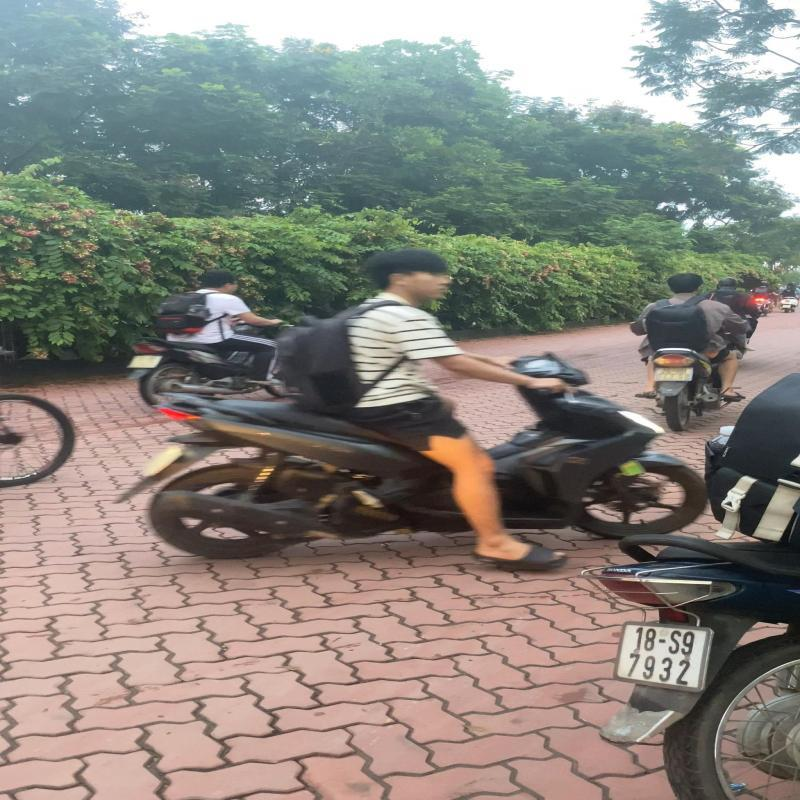licenseplate: (654, 368, 694, 380)
motorcyclist: (626, 270, 752, 431)
nohelmet: (666, 272, 702, 294)
